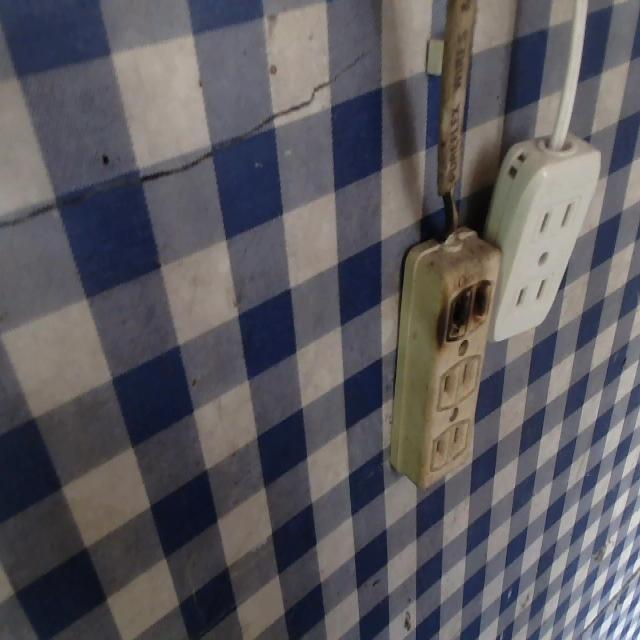-: (439, 273, 497, 347)
